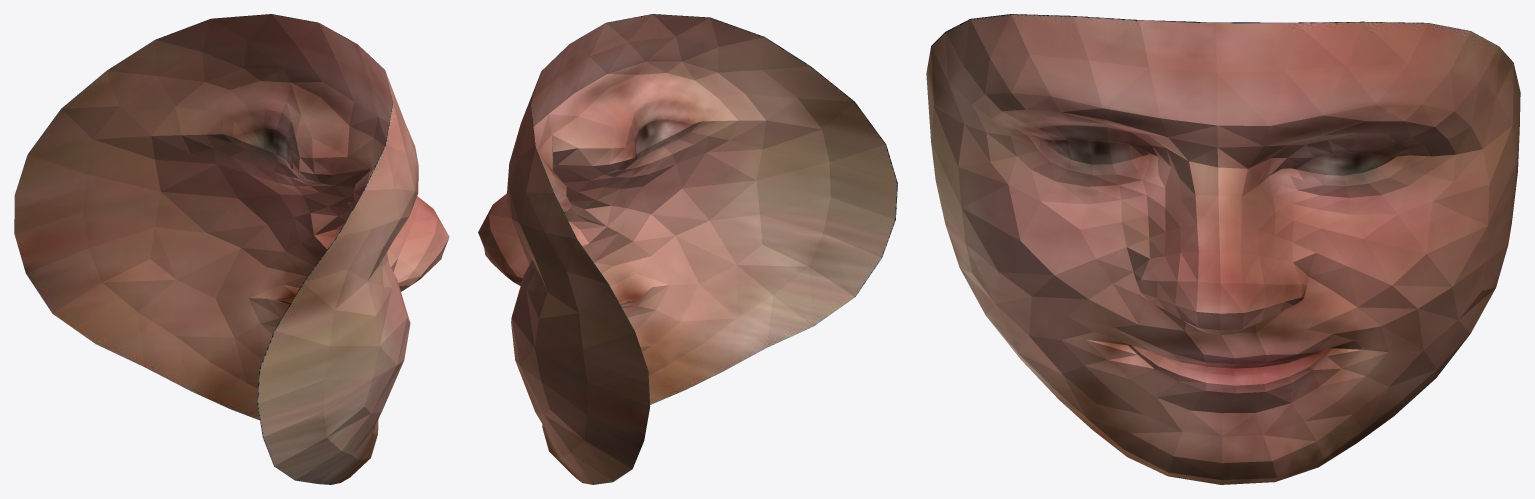
File: silas.obj
3 views of the same model, side by side, from view 1: azimuth 30°, elevation 25°; view 2: azimuth 150°, elevation 25°; view 3: azimuth 270°, elevation 25° (orthographic). The views are drawn at different scales.
Parts seen in each view (by area): view 1: silas_obj_model.001; view 2: silas_obj_model.001; view 3: silas_obj_model.001.
Boxes of the visible parts, x1,y1,x2,y2 form: silas_obj_model.001: (14, 14, 449, 484); silas_obj_model.001: (478, 14, 897, 484); silas_obj_model.001: (926, 14, 1520, 484).
Bounding box in the file's own units: 0.3036 × 0.3854 × 0.4365.
